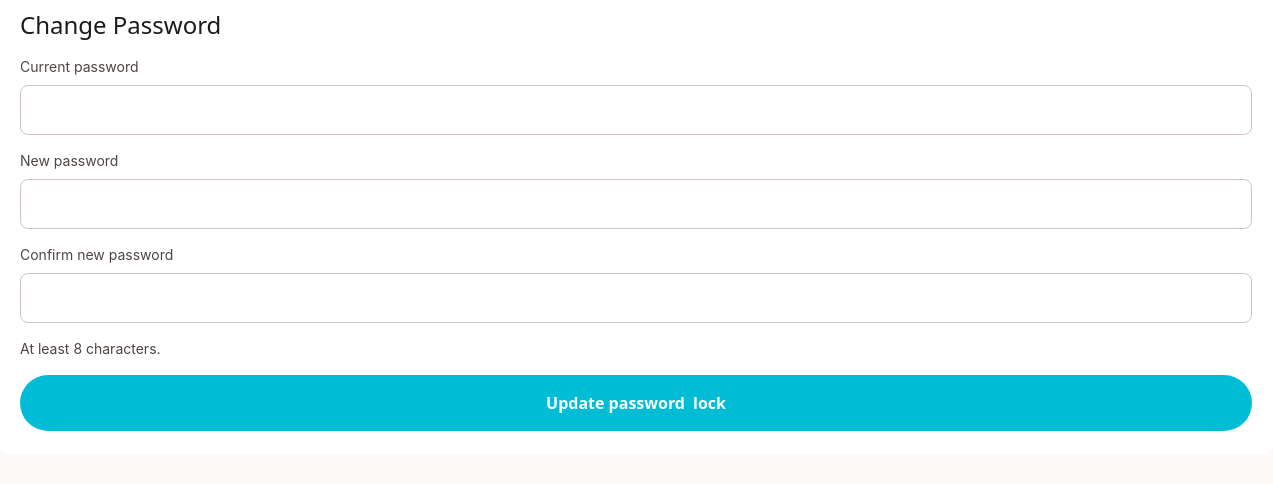
it: ChangePasswordForm › clears fields and shows success on 204
The image size is (1273, 484).
Type "oldpassword" into the password field labelled "Current password". click: [636, 110]
box: x1=20 y1=85 x2=1252 y2=135
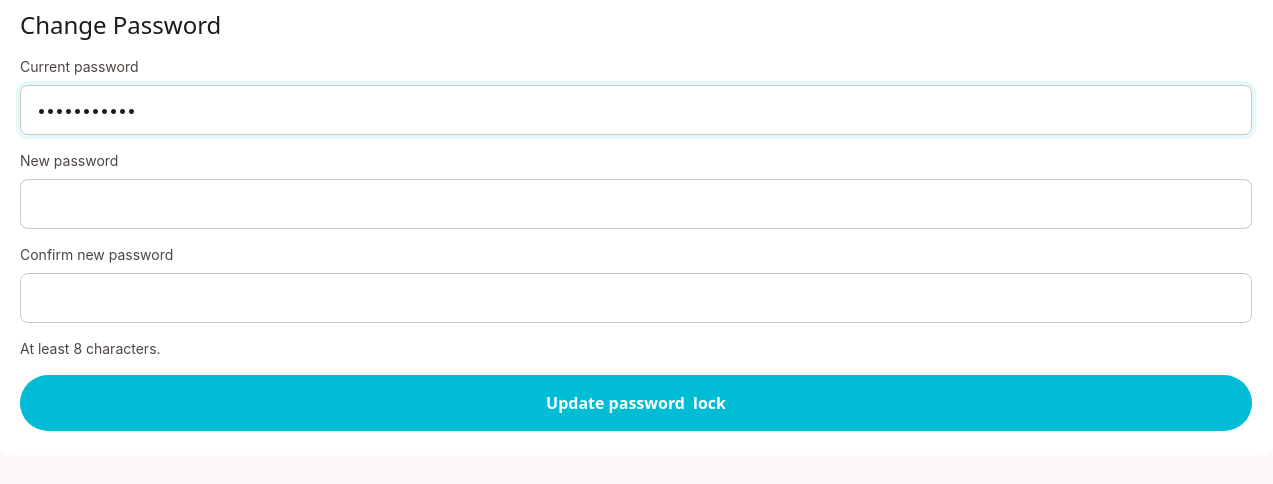
Type "newpassword1" into the password field labelled "New password". click: [636, 204]
box: x1=20 y1=179 x2=1252 y2=229
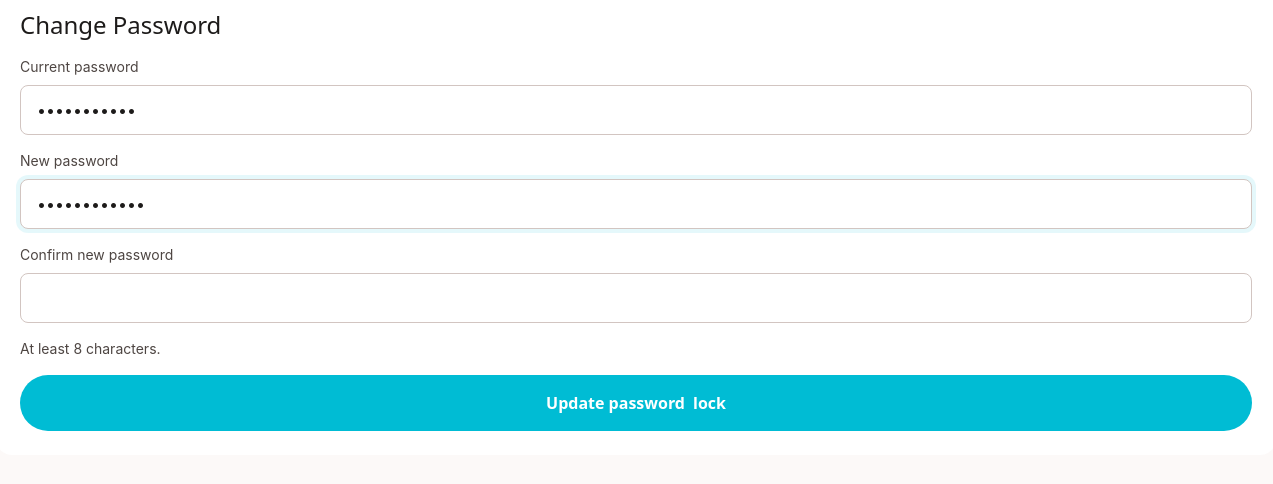
Type "newpassword1" into the password field labelled "Confirm new password". click: [636, 298]
box: x1=20 y1=273 x2=1252 y2=323
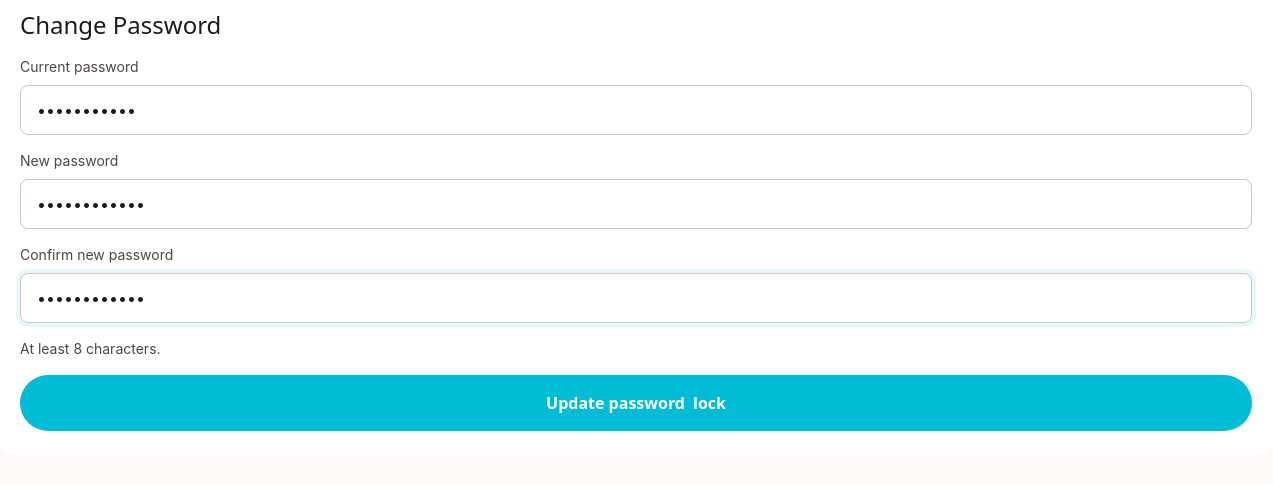
Click the button "Update password lock". click: [636, 403]
box: x1=20 y1=375 x2=1252 y2=431
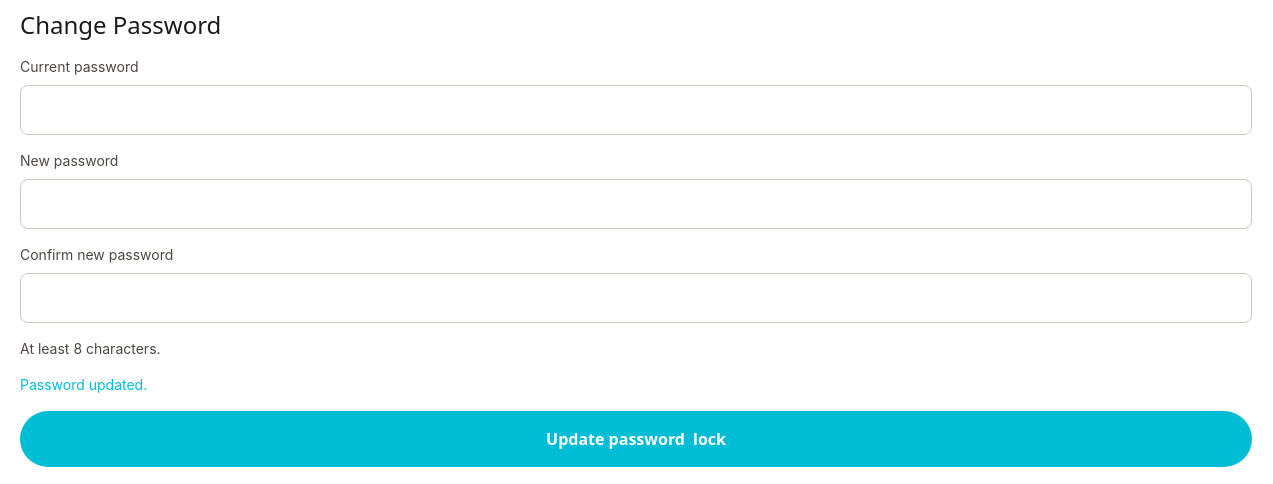
Expected: the text "Password updated." is shown, x1=20 y1=376 x2=147 y2=393
Expected: the password field labelled "New password" is empty, x1=20 y1=179 x2=1252 y2=229
